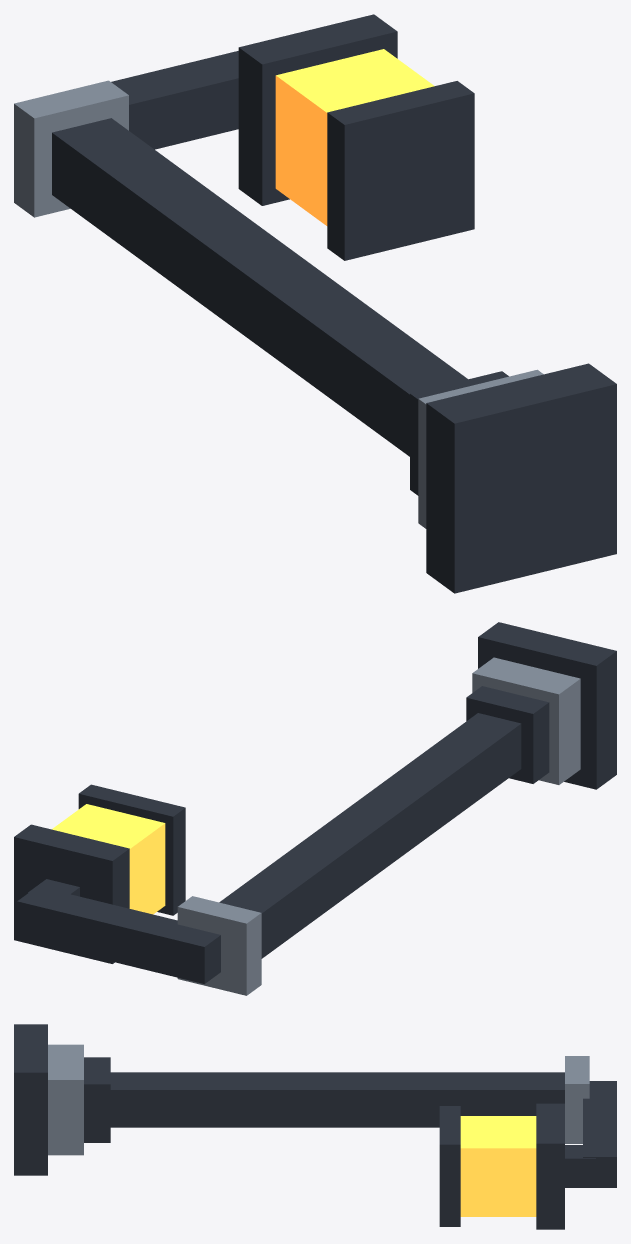
Rendered from gotham_lamppost.glb.
3 views of the same model, one above another, from view 1: azimuth 30°, elevation 25°; view 2: azimuth 150°, elevation 25°; view 3: azimuth 270°, elevation 25° (orthographic). The views are drawn at different scales.
Visible parts, largest first — view 1: Lamp square shaft, Lamp foot, Lamp lantern foot, Lamp amber lantern, Lamp lantern cap, Lamp right-angle arm, Lamp upper collar, Lamp stepped base, Lamp collar; view 2: Lamp square shaft, Lamp right-angle arm, Lamp foot, Lamp lantern cap, Lamp stepped base, Lamp amber lantern, Lamp upper collar, Lamp lantern foot, Lamp collar; view 3: Lamp square shaft, Lamp amber lantern, Lamp foot, Lamp stepped base, Lamp lantern cap, Lamp right-angle arm, Lamp lantern foot, Lamp collar, Lamp upper collar, Lamp hanger.
Boxes of the visible parts, x1,y1,x2,y2 form: Lamp square shaft: (52, 118, 467, 456); Lamp foot: (426, 363, 616, 593); Lamp lantern foot: (327, 81, 474, 260); Lamp amber lantern: (275, 49, 434, 225); Lamp lantern cap: (238, 14, 397, 205); Lamp right-angle arm: (111, 51, 238, 149); Lamp upper collar: (14, 80, 128, 217); Lamp stepped base: (418, 369, 543, 528); Lamp collar: (410, 371, 508, 495); Lamp square shaft: (219, 713, 521, 958); Lamp right-angle arm: (17, 886, 220, 983); Lamp foot: (478, 622, 616, 789); Lamp lantern cap: (14, 824, 129, 963); Lamp stepped base: (472, 657, 580, 784); Lamp amber lantern: (52, 804, 165, 914); Lamp upper collar: (177, 896, 261, 995); Lamp lantern foot: (78, 784, 185, 915); Lamp collar: (466, 686, 549, 783); Lamp square shaft: (110, 1072, 564, 1127); Lamp amber lantern: (460, 1116, 536, 1216); Lamp foot: (14, 1024, 47, 1175); Lamp stepped base: (48, 1044, 83, 1155); Lamp lantern cap: (536, 1103, 564, 1229); Lamp right-angle arm: (583, 1081, 616, 1187); Lamp lantern foot: (439, 1106, 460, 1226); Lamp collar: (84, 1057, 110, 1142); Lamp upper collar: (565, 1056, 589, 1143); Lamp hanger: (565, 1145, 595, 1187).
Bounding box in the file's own units: 1.38 × 0.6 × 3.18.
